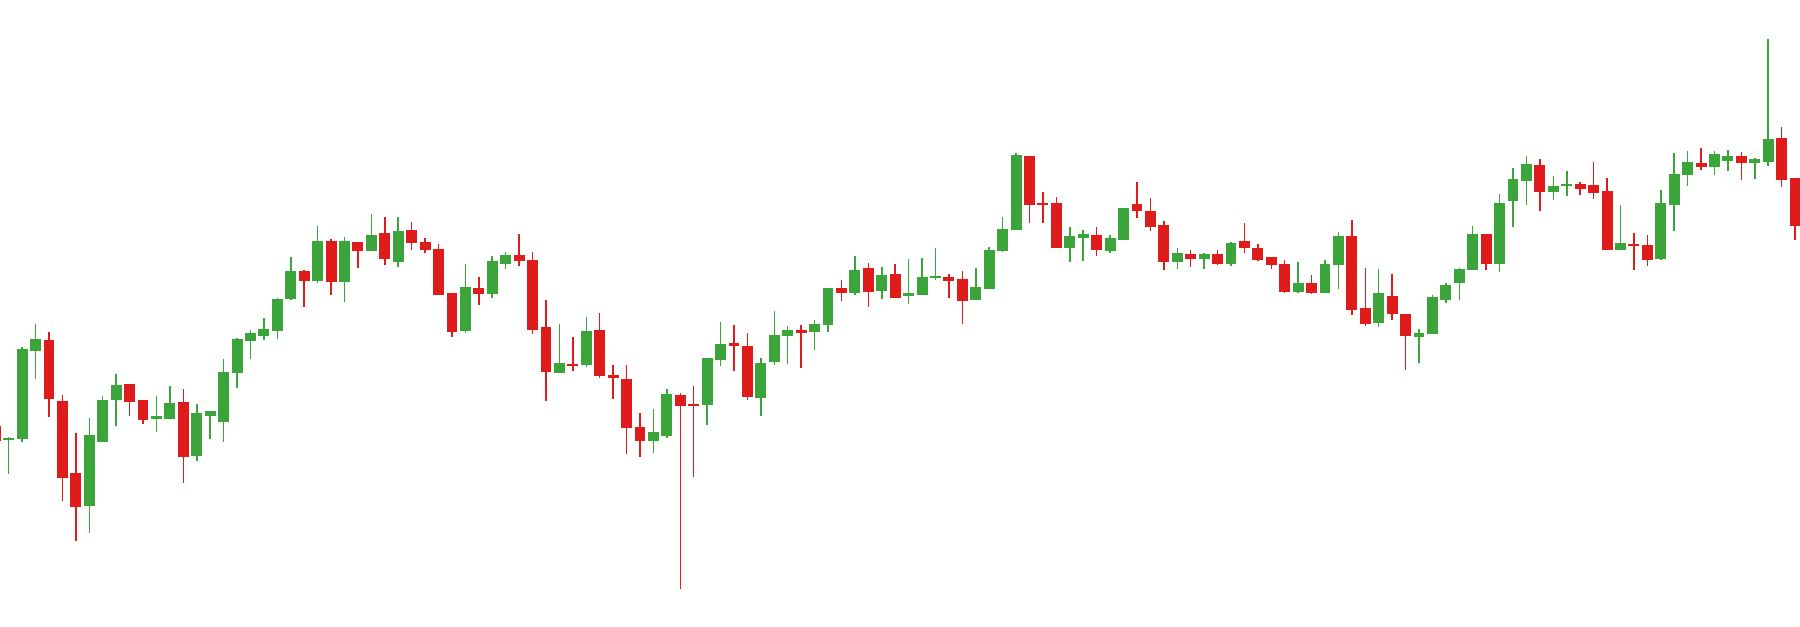buy: (1, 388, 96, 537)
